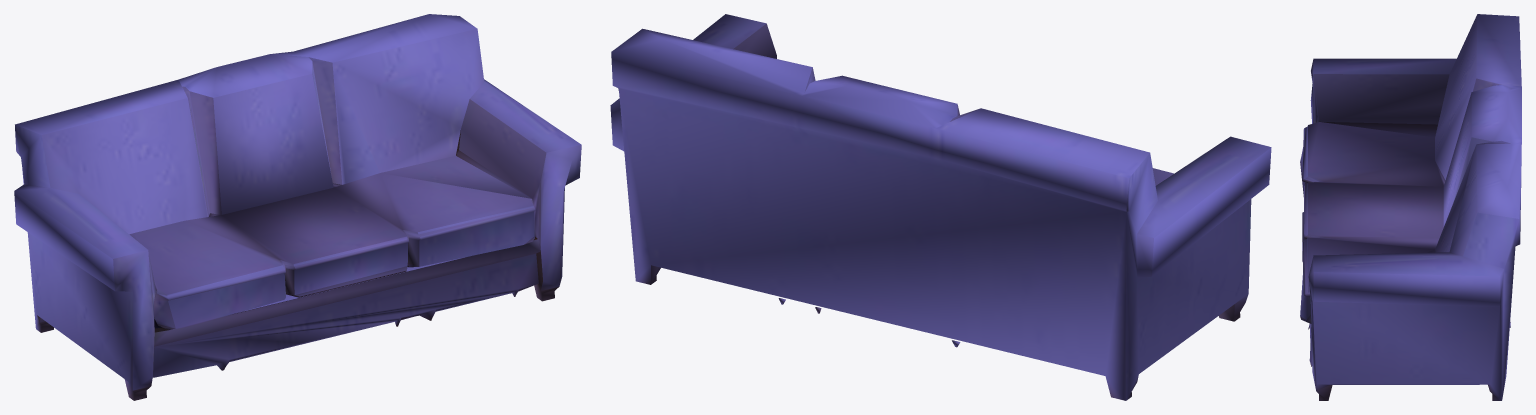
Rendered from model.progressive.glb.
The picture shows the model from 3 angles, left to right: view 1: azimuth 30°, elevation 25°; view 2: azimuth 150°, elevation 25°; view 3: azimuth 270°, elevation 25°; orthographic projection. The views are drawn at different scales.
Visible parts, largest first — view 1: material; view 2: material; view 3: material.
Part boxes in pixels (<box>): material: <box>14,14,581,400</box>; material: <box>610,14,1271,400</box>; material: <box>1300,14,1521,400</box>.
Size of the model in its own units: 1.84 by 0.8123 by 0.8083.
1 material, 1 textured.
